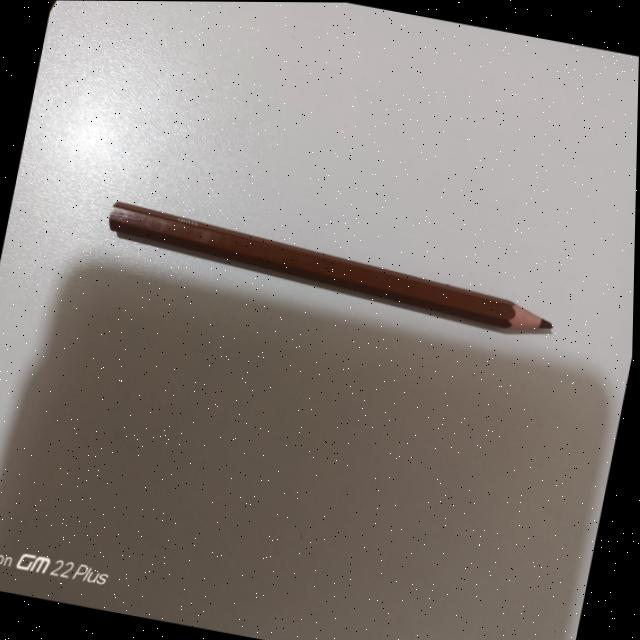pencil: (95, 187, 567, 359)
